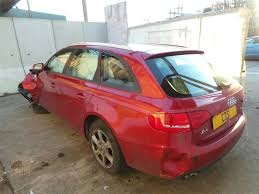Dent: (158, 151, 194, 177)
Smashed: (17, 71, 43, 102)
